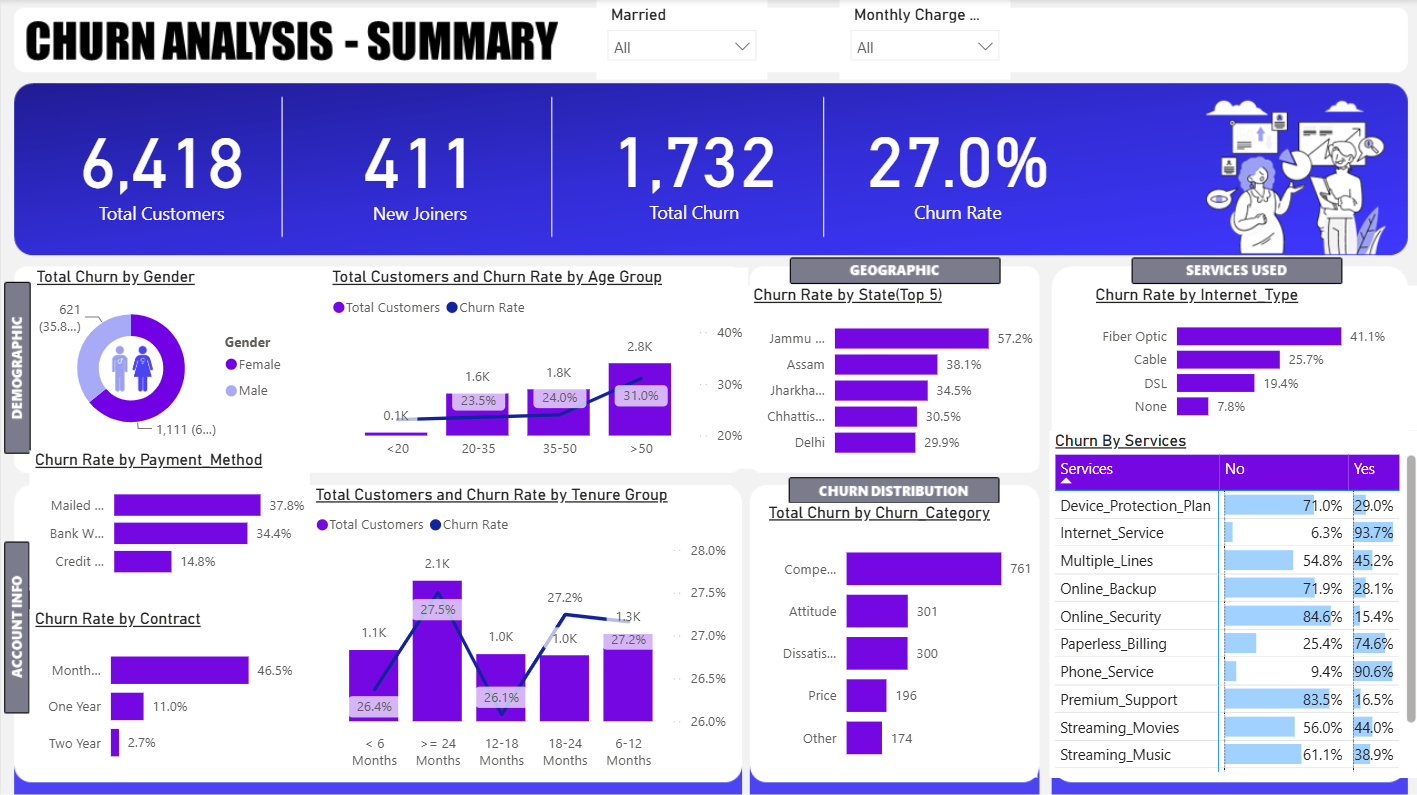

The dashboard page shown, as its layout file describes it:
{"tool":"powerbi","page":{"name":"Summary","canvas":[1280,720],"ordinal":0},"visuals":[{"type":"image","box":[91.4,275.6,53.6,113.4],"z":0},{"type":"card","fields":{"Values":["tbl_Measures.Total Customers"]},"box":[25.2,70.9,237.8,157.5],"z":1000},{"type":"card","fields":{"Values":["tbl_Measures.New Joiners"]},"box":[239.4,80.3,275.6,138.6],"z":2000},{"type":"card","fields":{"Values":["tbl_Measures.Total Churn"]},"box":[515.1,89.8,218.9,118.1],"z":3000},{"type":"card","fields":{"Values":["tbl_Measures.Churn Rate"]},"box":[756,89.8,212.6,118.1],"z":4000},{"type":"donutChart","fields":{"Category":["prod_Churn.Gender"],"Y":["tbl_Measures.Total Churn"]},"box":[27,242,240.6,164.9],"z":5000},{"type":"lineStackedColumnComboChart","fields":{"Category":["Mapping_AgeGrp.Age Group"],"Y":["tbl_Measures.Total Customers"],"Y2":["tbl_Measures.Churn Rate"]},"box":[293.3,242,379.8,181.1],"z":6000},{"type":"clusteredBarChart","fields":{"Category":["prod_Churn.Payment_Method"],"Y":["tbl_Measures.Churn Rate"]},"box":[25.7,406.9,252.8,125.7],"z":7000},{"type":"clusteredBarChart","fields":{"Category":["prod_Churn.Contract"],"Y":["tbl_Measures.Churn Rate"]},"box":[25.7,550.1,242,151.4],"z":8000},{"type":"lineStackedColumnComboChart","fields":{"Category":["Mapping_TenureGrp.Tenure Group "],"Y":["tbl_Measures.Total Customers"],"Y2":["tbl_Measures.Churn Rate"]},"box":[278.5,438,379.8,263.6],"z":9000},{"type":"clusteredBarChart","title":"Churn Rate by State(Top 5)","fields":{"Category":["prod_Churn.State"],"Y":["tbl_Measures.Churn Rate"]},"box":[672.6,258.3,261.5,165.4],"z":10000},{"type":"clusteredBarChart","fields":{"Category":["prod_Churn.Churn_Category"],"Y":["tbl_Measures.Total Churn"]},"box":[686.7,454.2,247.4,247.4],"z":11000},{"type":"clusteredBarChart","fields":{"Category":["prod_Churn.Internet_Type"],"Y":["tbl_Measures.Churn Rate"]},"box":[981.3,258.3,299.3,130.7],"z":12000},{"type":"pivotTable","title":"Churn By Services","fields":{"Rows":["prod_Services.Services"],"Columns":["prod_Services.Status"],"Values":["Sum(prod_Services.Churn Status)"]},"box":[945,389,335.5,311.9],"z":13000},{"type":"slicer","fields":{"Values":["prod_Services.Monthly Charge Status"]},"box":[755.4,0,153.9,72.9],"z":14000},{"type":"slicer","fields":{"Values":["prod_Services.Married"]},"box":[536.7,0,153.9,72.9],"z":15000},{"type":"shape","box":[1055.7,5.4,224.4,60.8],"z":16000}]}

Visuals, with their boxes in screenshot pixels (x1, y1, x2, y2), scaled from the page's 1280x720 canvas onto the 1417x795 screenshot:
image: x1=101 y1=304 x2=161 y2=430
card - tbl_Measures.Total Customers: x1=28 y1=78 x2=291 y2=252
card - tbl_Measures.New Joiners: x1=265 y1=89 x2=570 y2=242
card - tbl_Measures.Total Churn: x1=570 y1=99 x2=813 y2=230
card - tbl_Measures.Churn Rate: x1=837 y1=99 x2=1072 y2=230
donutChart - prod_Churn.Gender x tbl_Measures.Total Churn: x1=30 y1=267 x2=296 y2=449
lineStackedColumnComboChart - Mapping_AgeGrp.Age Group x tbl_Measures.Total Customers: x1=325 y1=267 x2=745 y2=467
clusteredBarChart - prod_Churn.Payment_Method x tbl_Measures.Churn Rate: x1=28 y1=449 x2=308 y2=588
clusteredBarChart - prod_Churn.Contract x tbl_Measures.Churn Rate: x1=28 y1=607 x2=296 y2=775
lineStackedColumnComboChart - Mapping_TenureGrp.Tenure Group  x tbl_Measures.Total Customers: x1=308 y1=484 x2=729 y2=775
"Churn Rate by State(Top 5)" clusteredBarChart: x1=745 y1=285 x2=1034 y2=468
clusteredBarChart - prod_Churn.Churn_Category x tbl_Measures.Total Churn: x1=760 y1=502 x2=1034 y2=775
clusteredBarChart - prod_Churn.Internet_Type x tbl_Measures.Churn Rate: x1=1086 y1=285 x2=1416 y2=430
"Churn By Services" pivotTable: x1=1046 y1=430 x2=1416 y2=774
slicer - prod_Services.Monthly Charge Status: x1=836 y1=0 x2=1007 y2=80
slicer - prod_Services.Married: x1=594 y1=0 x2=765 y2=80
shape: x1=1169 y1=6 x2=1416 y2=73
